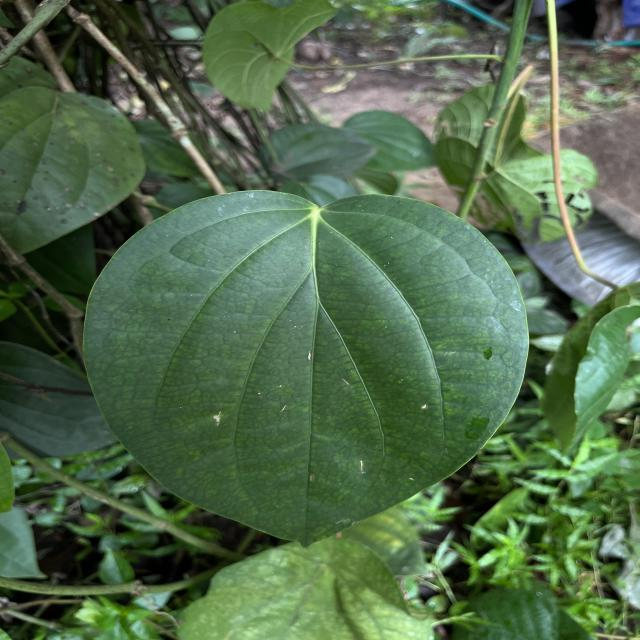Piper nigrum: (77, 187, 530, 549)
